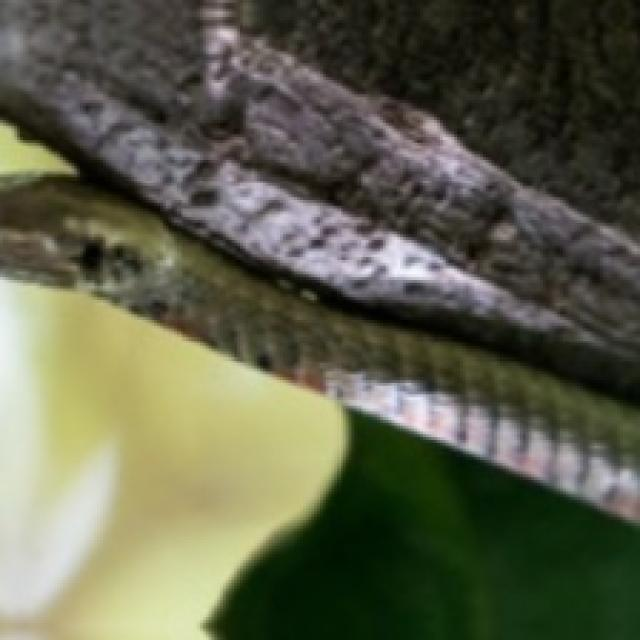paradise tree snake: (0, 178, 640, 519)
